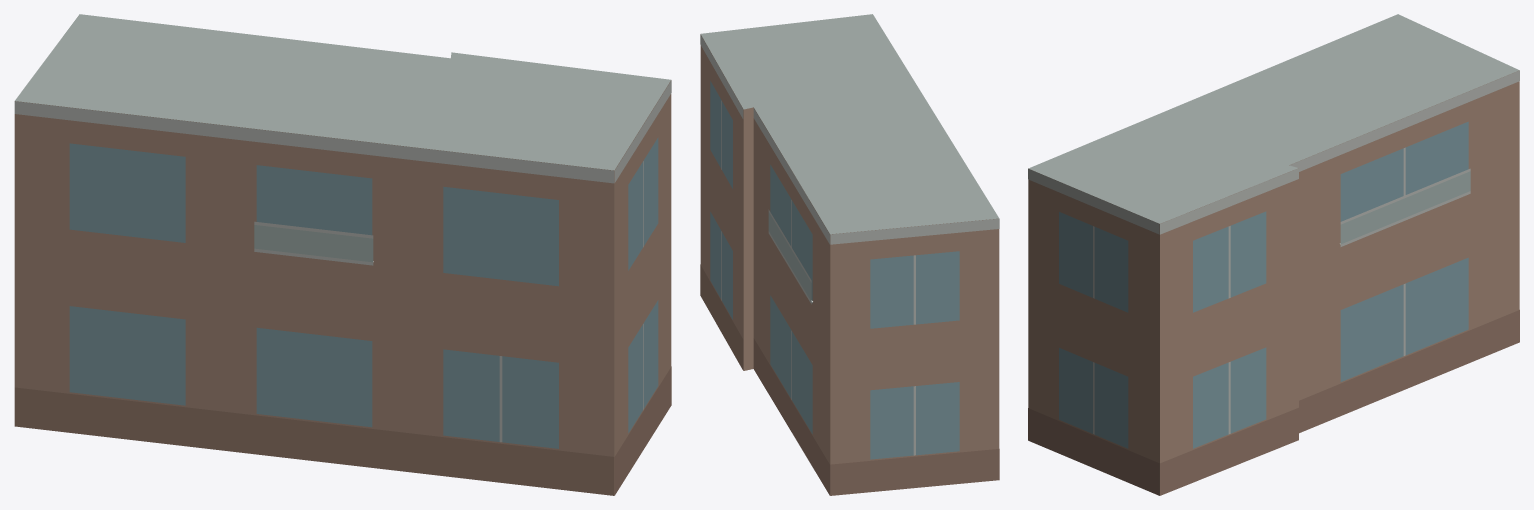
File: survey-upis-32914533.glb
3 renders of one model, left to right at view 1: azimuth 30°, elevation 25°; view 2: azimuth 150°, elevation 25°; view 3: azimuth 270°, elevation 25°, orthographic. The views are drawn at different scales.
Parts seen in each view (by area): view 1: survey-upis-32914533.tmp; view 2: survey-upis-32914533.tmp; view 3: survey-upis-32914533.tmp.
Boxes of the visible parts, left/top/right/bottom form: survey-upis-32914533.tmp: left=14, top=14, right=671, bottom=495; survey-upis-32914533.tmp: left=700, top=14, right=999, bottom=495; survey-upis-32914533.tmp: left=1028, top=14, right=1519, bottom=495.
Size of the model in its own units: 10.1 by 6.1 by 10.
